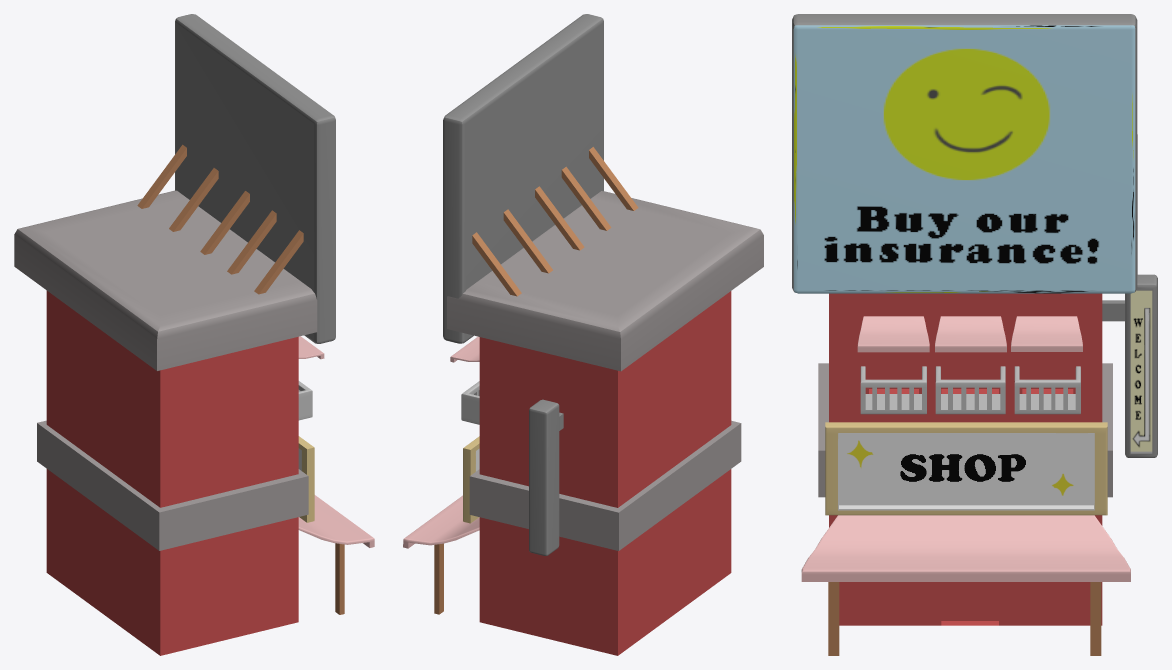
File: BuildingShort_05.fbx
The picture shows the model from 3 angles, left to right: view 1: azimuth 30°, elevation 25°; view 2: azimuth 150°, elevation 25°; view 3: azimuth 270°, elevation 25°; orthographic projection. The views are drawn at different scales.
Visible parts, largest first — view 1: polySurface826; view 2: polySurface826; view 3: polySurface826.
Boxes of the visible parts, x1,y1,x2,y2 form: polySurface826: (14,14,374,655); polySurface826: (403,14,763,655); polySurface826: (792,14,1157,655).
Size of the model in its own units: 4.81 by 10.69 by 5.73.
1 material, 1 textured.
